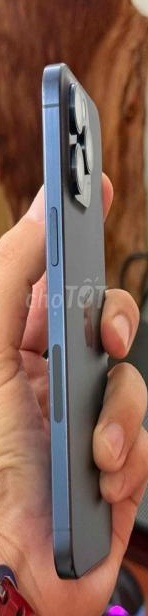scratch: (46, 365, 52, 375), (48, 399, 54, 408)
